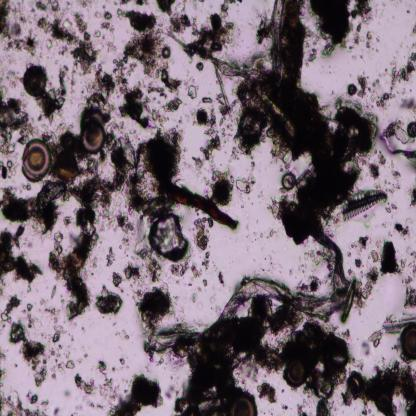Background material: (234, 0, 382, 249), (174, 300, 284, 414), (281, 319, 351, 415), (46, 211, 96, 320), (119, 8, 182, 90), (124, 127, 183, 214), (342, 358, 416, 415), (114, 57, 167, 130), (38, 12, 99, 72), (47, 121, 97, 187), (182, 10, 236, 68), (0, 96, 35, 184), (98, 128, 134, 206), (9, 322, 47, 390), (307, 0, 353, 56), (0, 225, 44, 283), (142, 211, 189, 264), (351, 233, 380, 310), (0, 188, 55, 228), (189, 86, 235, 133), (108, 375, 162, 415), (79, 67, 116, 121), (133, 287, 176, 333), (0, 0, 36, 54), (37, 64, 67, 119), (348, 74, 392, 107), (382, 120, 416, 162), (47, 324, 73, 376), (99, 205, 136, 240), (0, 392, 50, 416), (190, 133, 223, 169), (390, 47, 416, 92), (156, 0, 190, 33), (95, 11, 119, 55), (208, 168, 234, 205), (96, 284, 122, 318), (379, 240, 402, 277), (359, 325, 387, 355), (135, 247, 159, 282), (191, 216, 214, 251), (96, 360, 115, 401), (72, 370, 96, 400), (169, 260, 201, 282), (397, 250, 416, 286), (381, 317, 416, 336), (296, 273, 323, 296), (255, 381, 278, 407), (352, 0, 374, 27), (181, 71, 200, 102), (0, 297, 21, 325), (0, 68, 20, 92), (302, 247, 322, 270), (237, 173, 257, 195), (371, 155, 387, 180), (161, 94, 183, 112), (36, 0, 62, 14), (401, 286, 416, 310), (124, 264, 141, 285), (389, 171, 403, 195), (117, 232, 131, 255), (115, 326, 132, 344), (0, 348, 7, 388), (220, 0, 236, 17), (394, 222, 409, 240), (26, 302, 36, 329), (398, 97, 416, 111), (105, 244, 116, 266), (202, 250, 212, 272), (76, 0, 95, 10), (112, 269, 121, 288), (364, 33, 374, 50), (408, 186, 416, 207), (165, 383, 177, 397), (188, 288, 197, 306), (160, 46, 173, 58), (154, 354, 164, 368), (77, 355, 88, 366), (50, 284, 58, 299), (117, 355, 127, 366), (218, 270, 225, 285), (134, 1, 147, 9), (117, 0, 130, 7), (53, 405, 61, 416), (268, 227, 275, 238), (203, 278, 208, 288)
Cellulose filter fibre: (150, 226, 348, 354), (32, 182, 99, 211), (206, 55, 268, 86)
Cotton: (171, 182, 239, 231)
Diatom: (339, 188, 388, 220), (22, 137, 50, 180), (81, 118, 105, 154), (227, 392, 258, 416), (23, 65, 47, 96), (284, 356, 308, 386), (314, 370, 336, 401), (399, 324, 416, 362), (282, 172, 296, 192)
